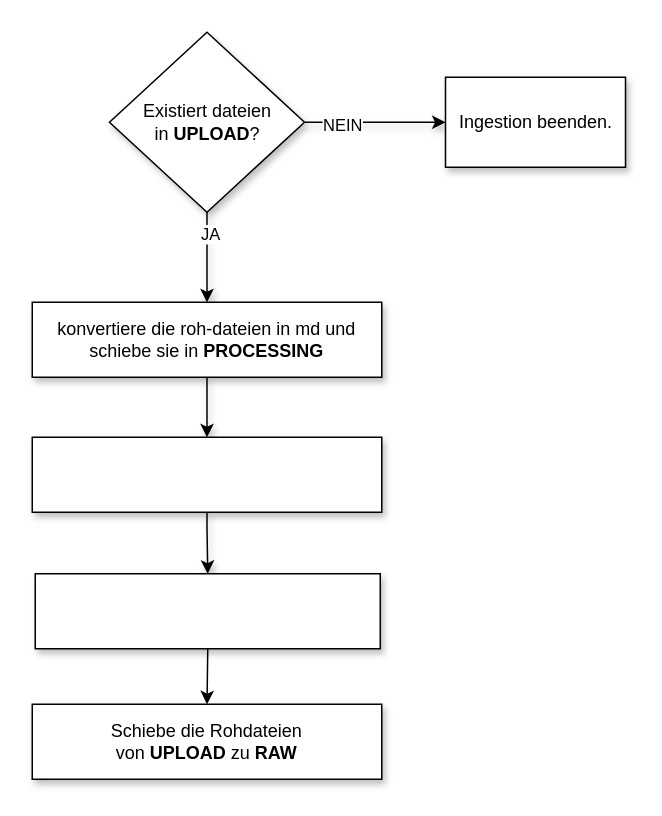
Image size: 662x816. Some labels were removed from this diagram. The centre of each missing label's shape, as x and y in pixels:
"Die Dateien von PROCESSING in ChromaDB indixieren" goes at point 208,476.
"Schiebe die Markdown-Dateien von PROCESSING zu PROCESSED" goes at point 208,612.
